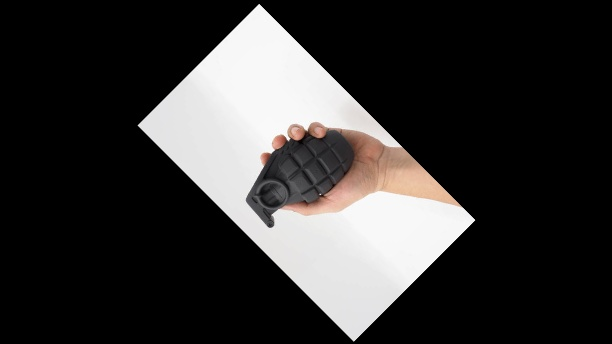e1: (246, 124, 356, 223)
